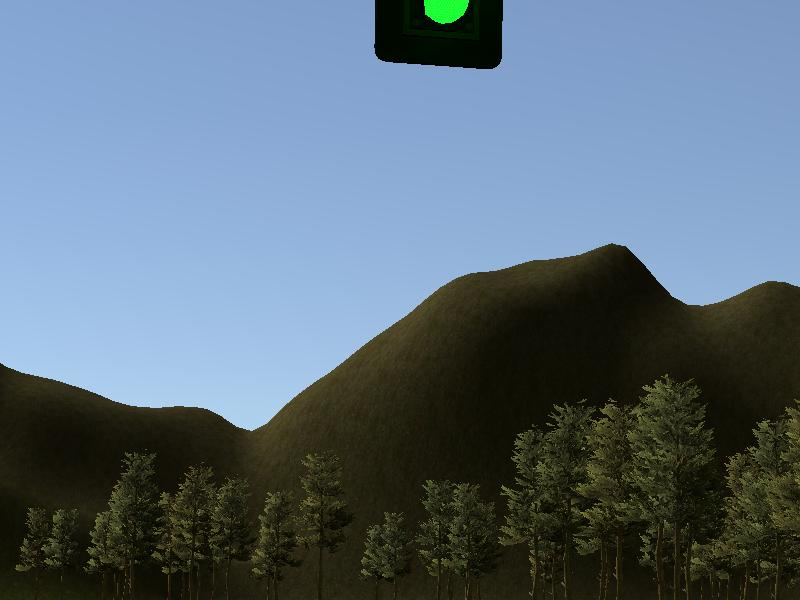Green: (376, 1, 504, 61)
